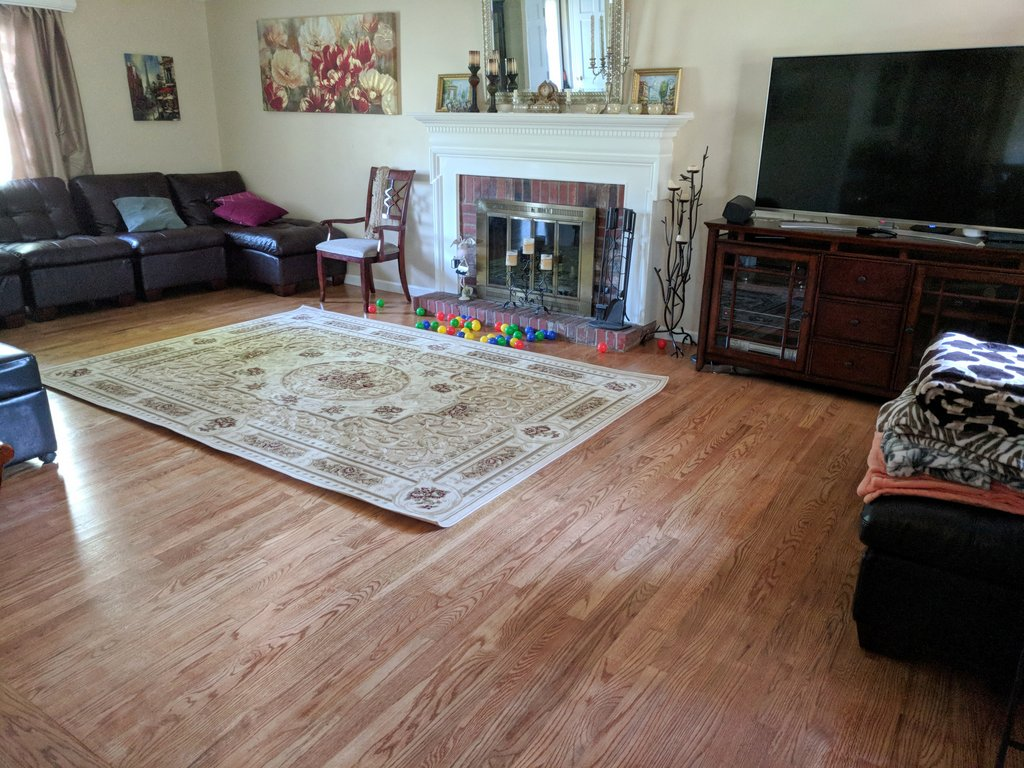ball: (422, 320, 430, 329)
